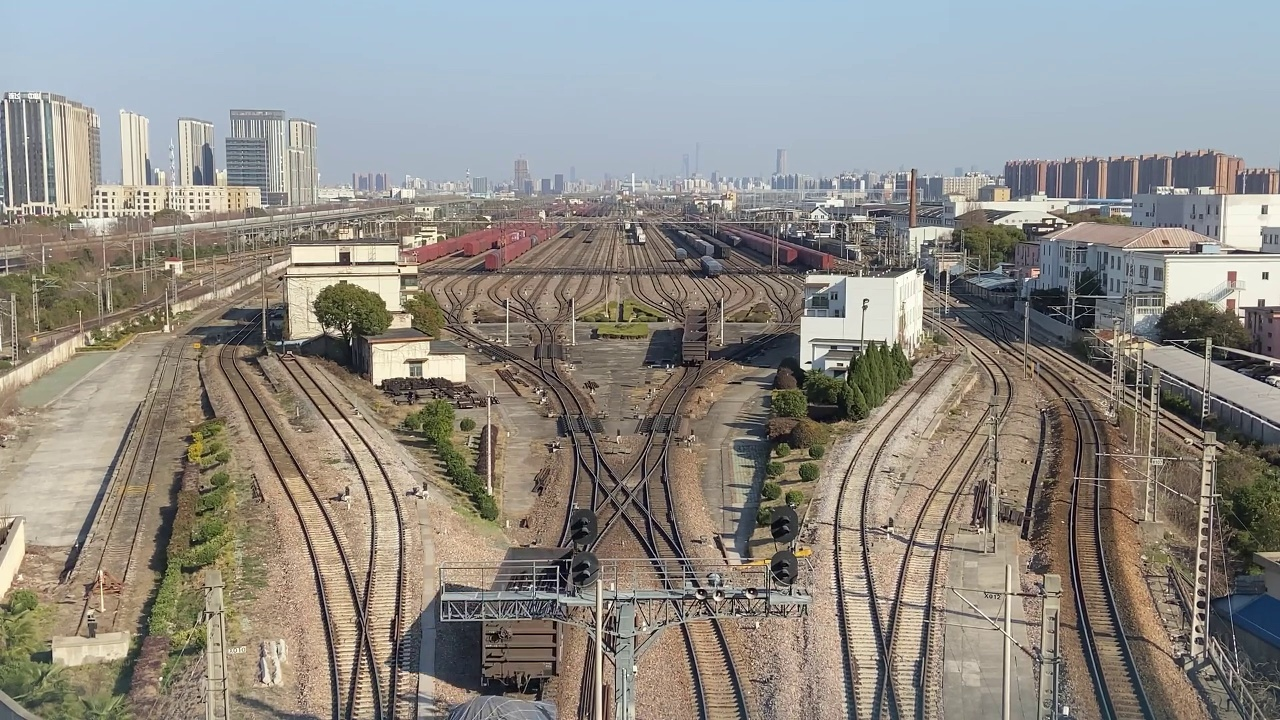train: (469, 533, 576, 689)
